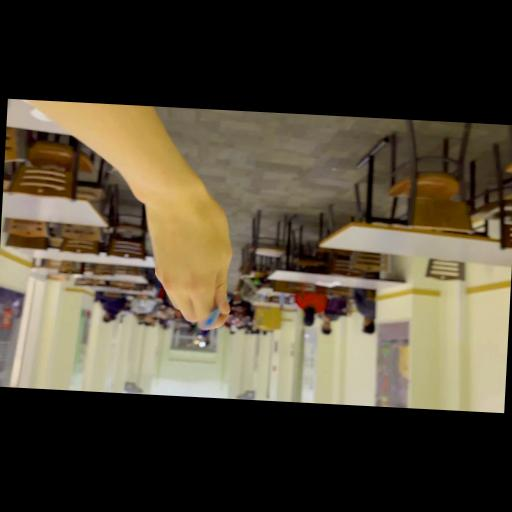straw: (202, 303, 226, 329)
